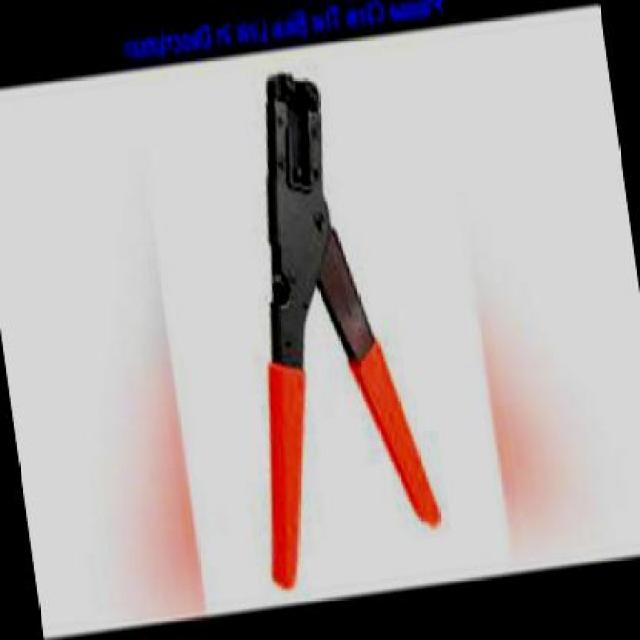pliers: (174, 29, 483, 608)
